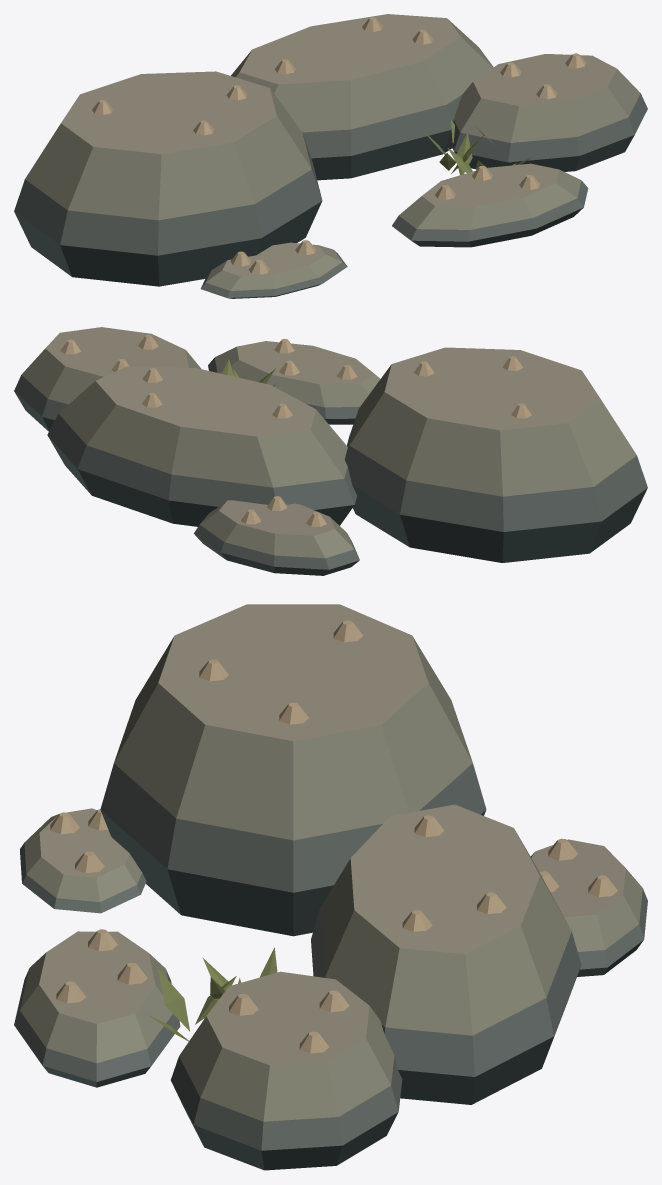
The model's file is tidal-rocks.glb.
The picture shows the model from 3 angles, top to bottom: view 1: azimuth 30°, elevation 25°; view 2: azimuth 150°, elevation 25°; view 3: azimuth 270°, elevation 25°; orthographic projection. The views are drawn at different scales.
Parts seen in each view (by area): view 1: SculptedModel; view 2: SculptedModel; view 3: SculptedModel.
Boxes of the visible parts, bbox=[...] form: SculptedModel: bbox=[14, 14, 647, 298]; SculptedModel: bbox=[14, 327, 647, 575]; SculptedModel: bbox=[14, 604, 647, 1170].
Size of the model in its own units: 2.62 by 0.543 by 1.65.
